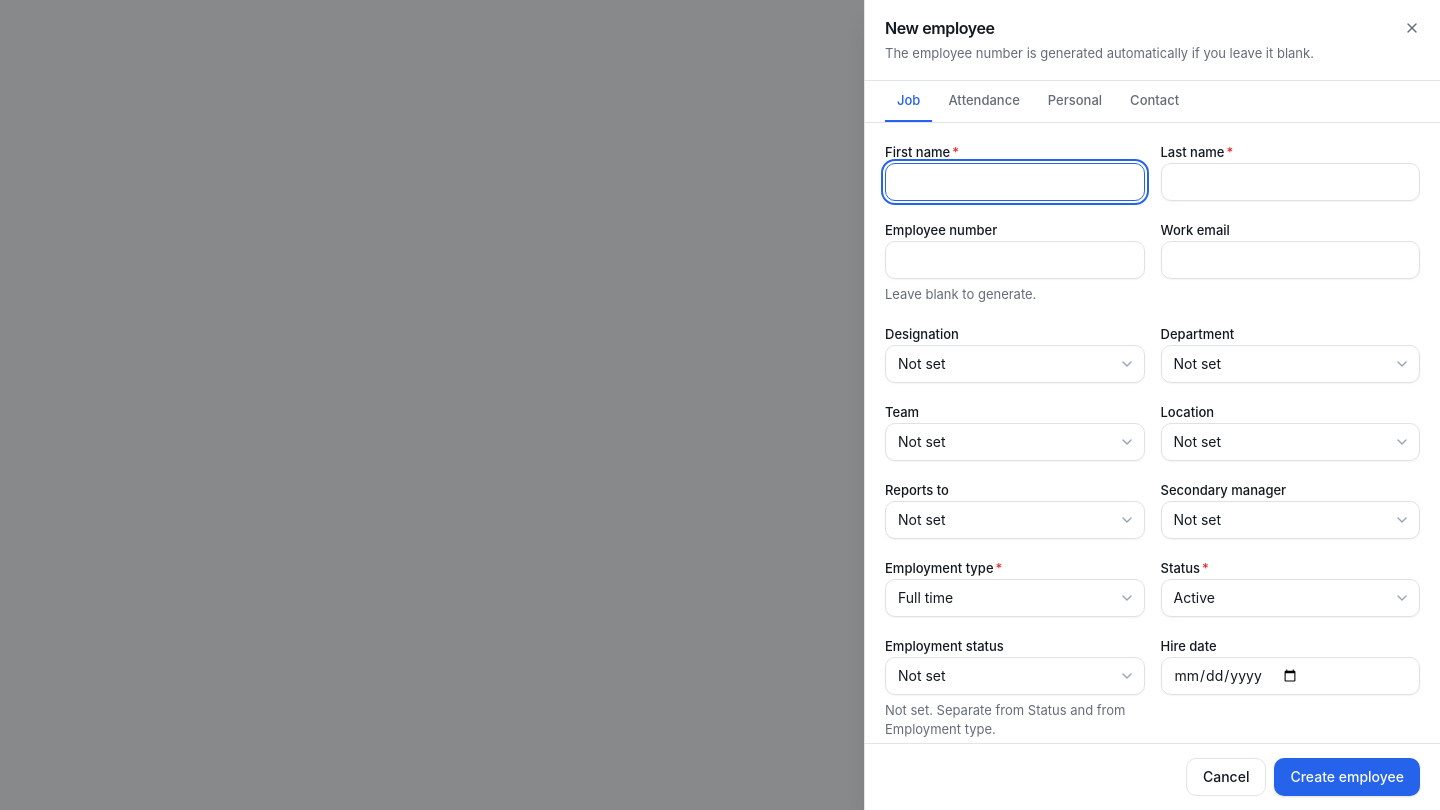
Scenario: without the device grant › hides the field rather than showing one that cannot be saved
Click the button "Attendance" at (984, 101), box [936,80,1032,122]
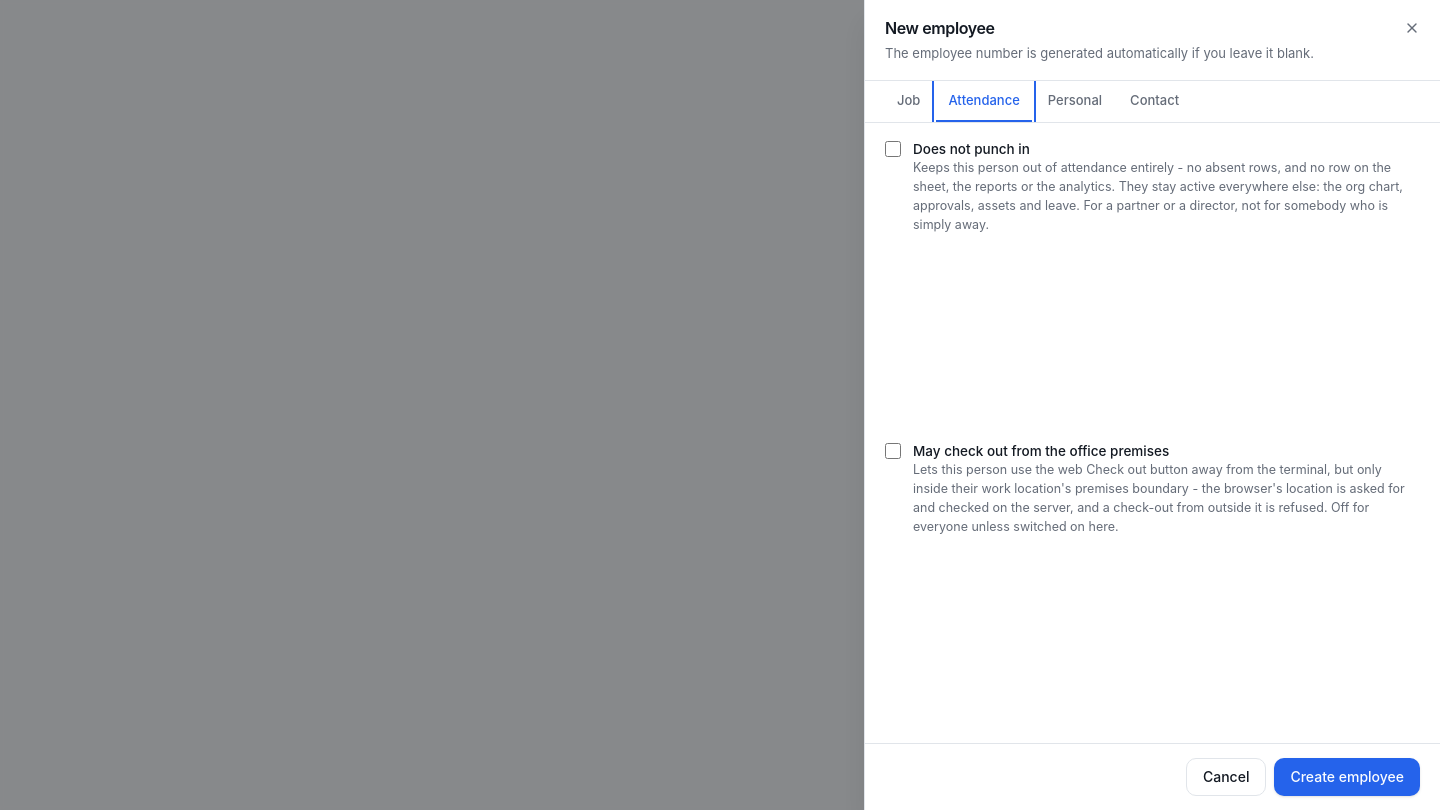
expect the text "Does not punch in" is shown: met, box [913,141,1030,157]
